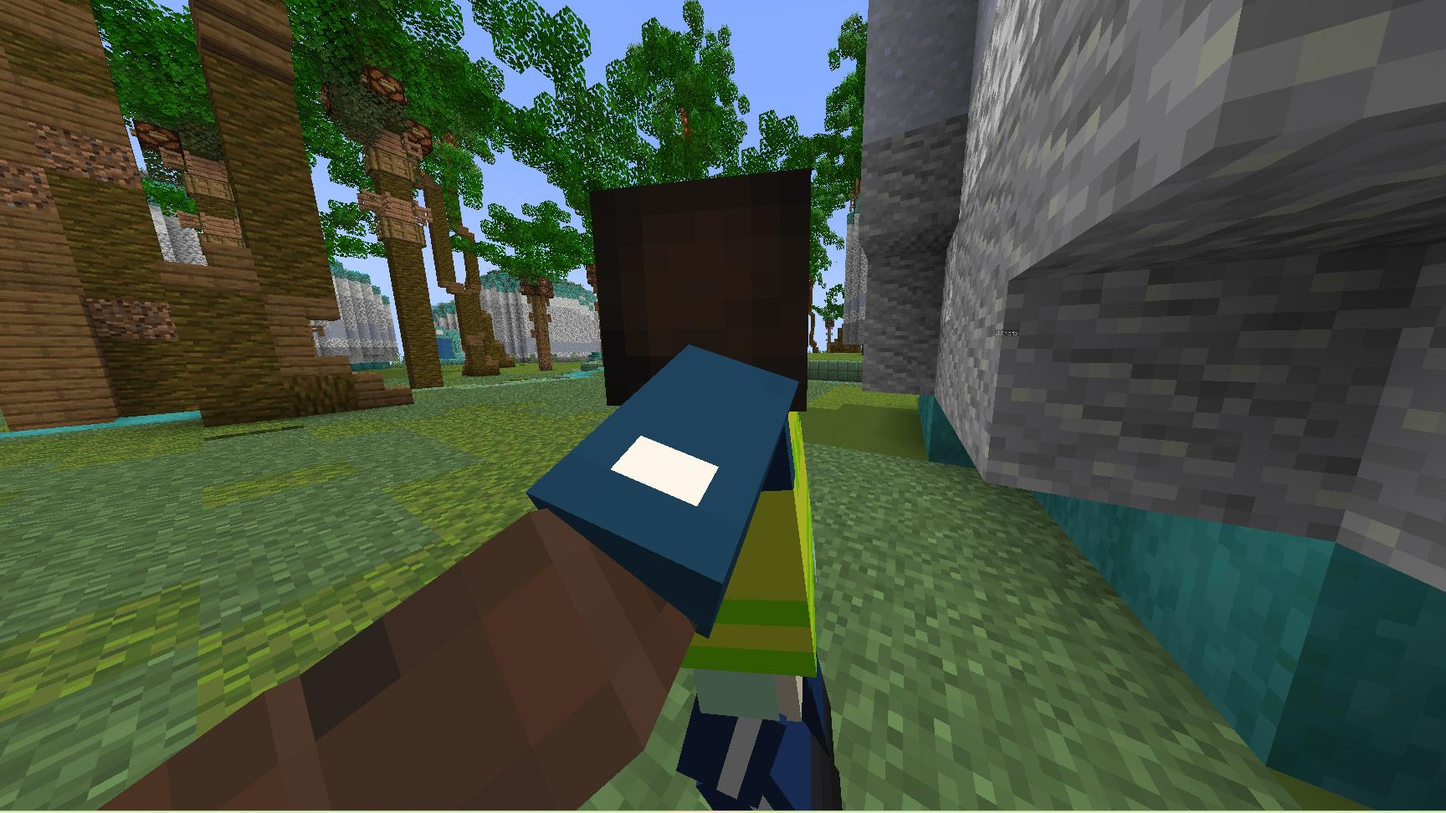Guardian: (102, 171, 841, 810)
